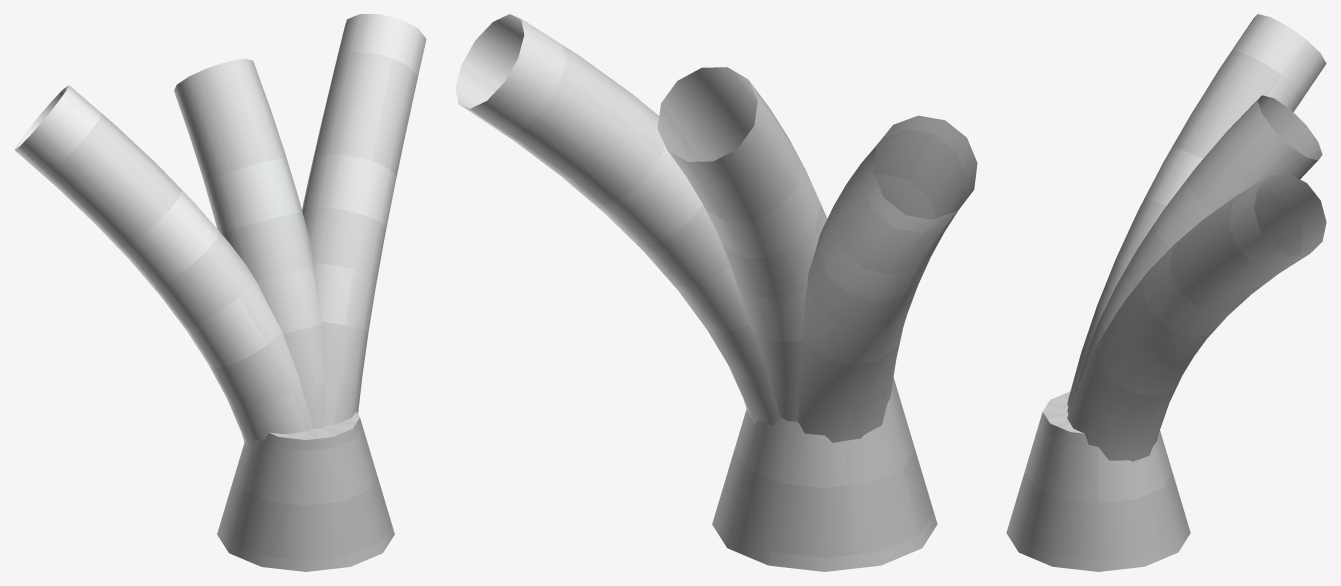
File: luminairearm_vannuystriple_c0.obj
The picture shows the model from 3 angles, left to right: view 1: azimuth 30°, elevation 25°; view 2: azimuth 150°, elevation 25°; view 3: azimuth 270°, elevation 25°; orthographic projection. The views are drawn at different scales.
Visible parts, largest first — view 1: luminairearm_vannuystriple_c0; view 2: luminairearm_vannuystriple_c0; view 3: luminairearm_vannuystriple_c0.
Part boxes in pixels (x1,y1,x2,y2): luminairearm_vannuystriple_c0: [14, 14, 426, 571]; luminairearm_vannuystriple_c0: [455, 14, 977, 571]; luminairearm_vannuystriple_c0: [1006, 14, 1326, 571].
Bounding box in the file's own units: 1.08 × 1.08 × 0.7158.
